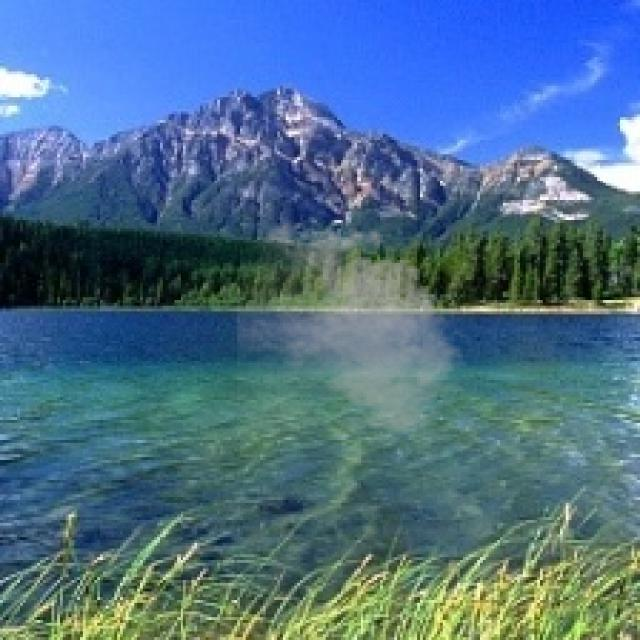smoke: (237, 214, 472, 440)
